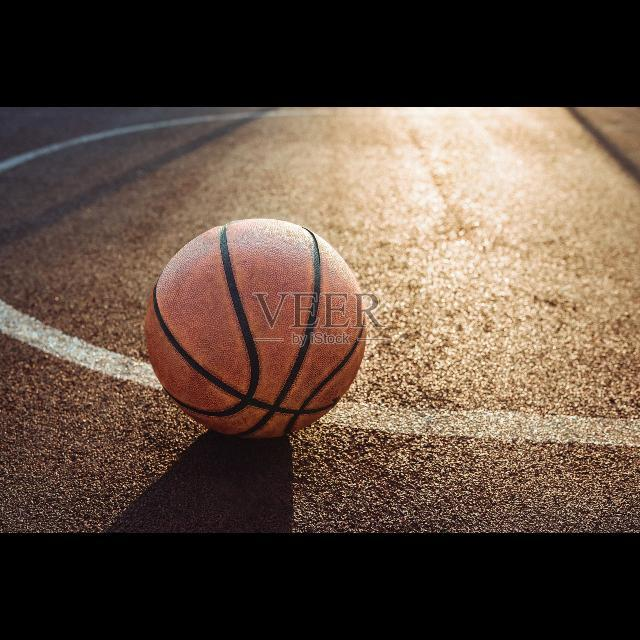basketball: (146, 218, 366, 438)
